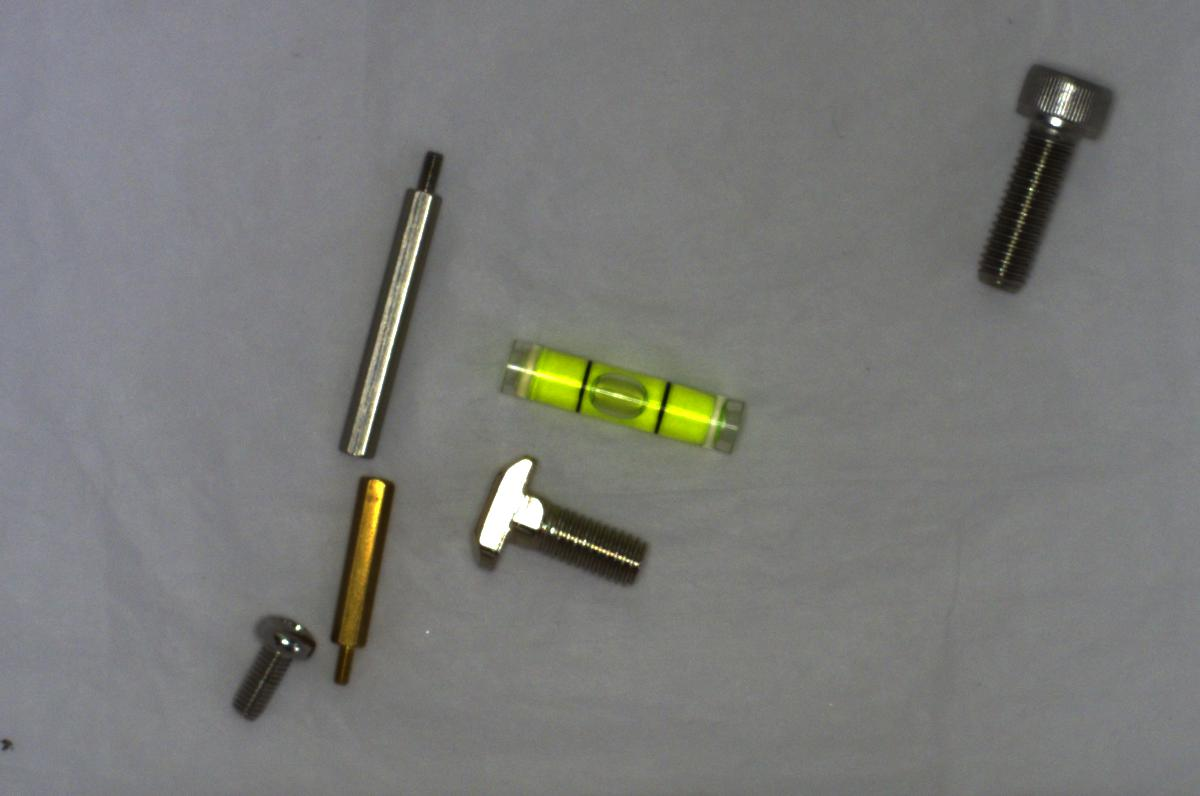Hexagon pillar: (321, 468, 397, 687)
Hexagon screw: (962, 56, 1120, 293)
Hexagonal steel column: (334, 146, 446, 460)
Horizontal bubble: (491, 326, 750, 458)
Round head screw: (221, 607, 322, 723)
T-shaped screw: (467, 449, 653, 601)
